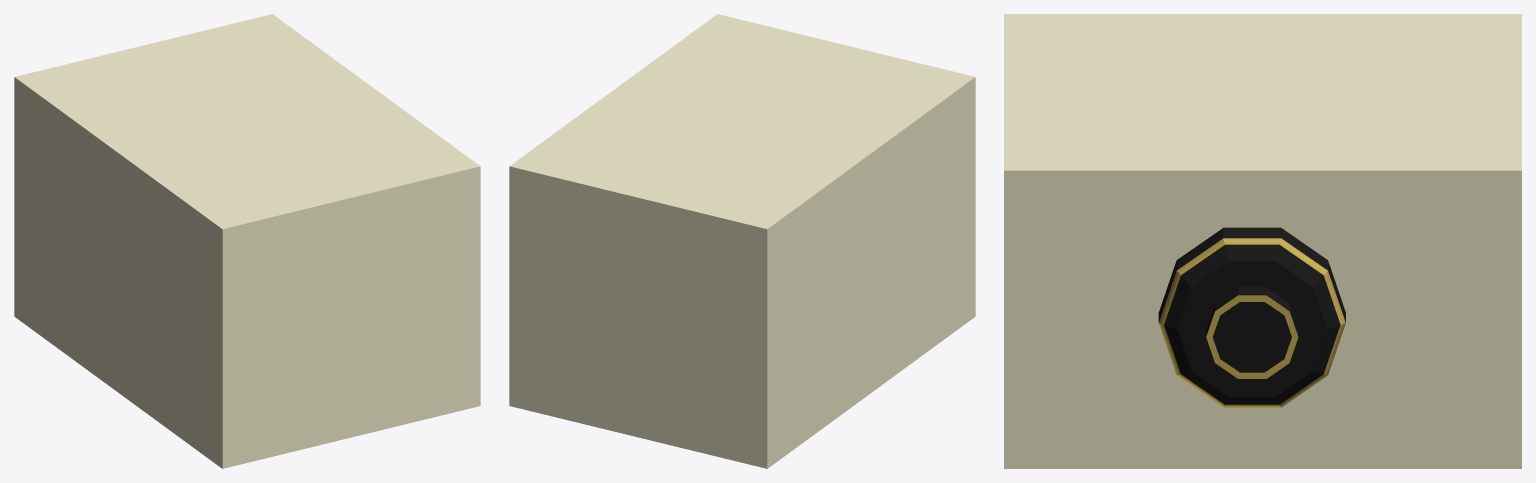
The model's file is fbx_safe.fbx.
The picture shows the model from 3 angles, left to right: view 1: azimuth 30°, elevation 25°; view 2: azimuth 150°, elevation 25°; view 3: azimuth 270°, elevation 25°; orthographic projection. The views are drawn at different scales.
Visible parts, largest first — view 1: fbx_safe; view 2: fbx_safe; view 3: fbx_safe.
Boxes of the visible parts, x1,y1,x2,y2 form: fbx_safe: (14,14,480,468); fbx_safe: (509,14,975,468); fbx_safe: (1004,14,1521,468).
Size of the model in its own units: 1.01 by 0.7779 by 1.22.
Materials: 1 (1 with a texture image).
